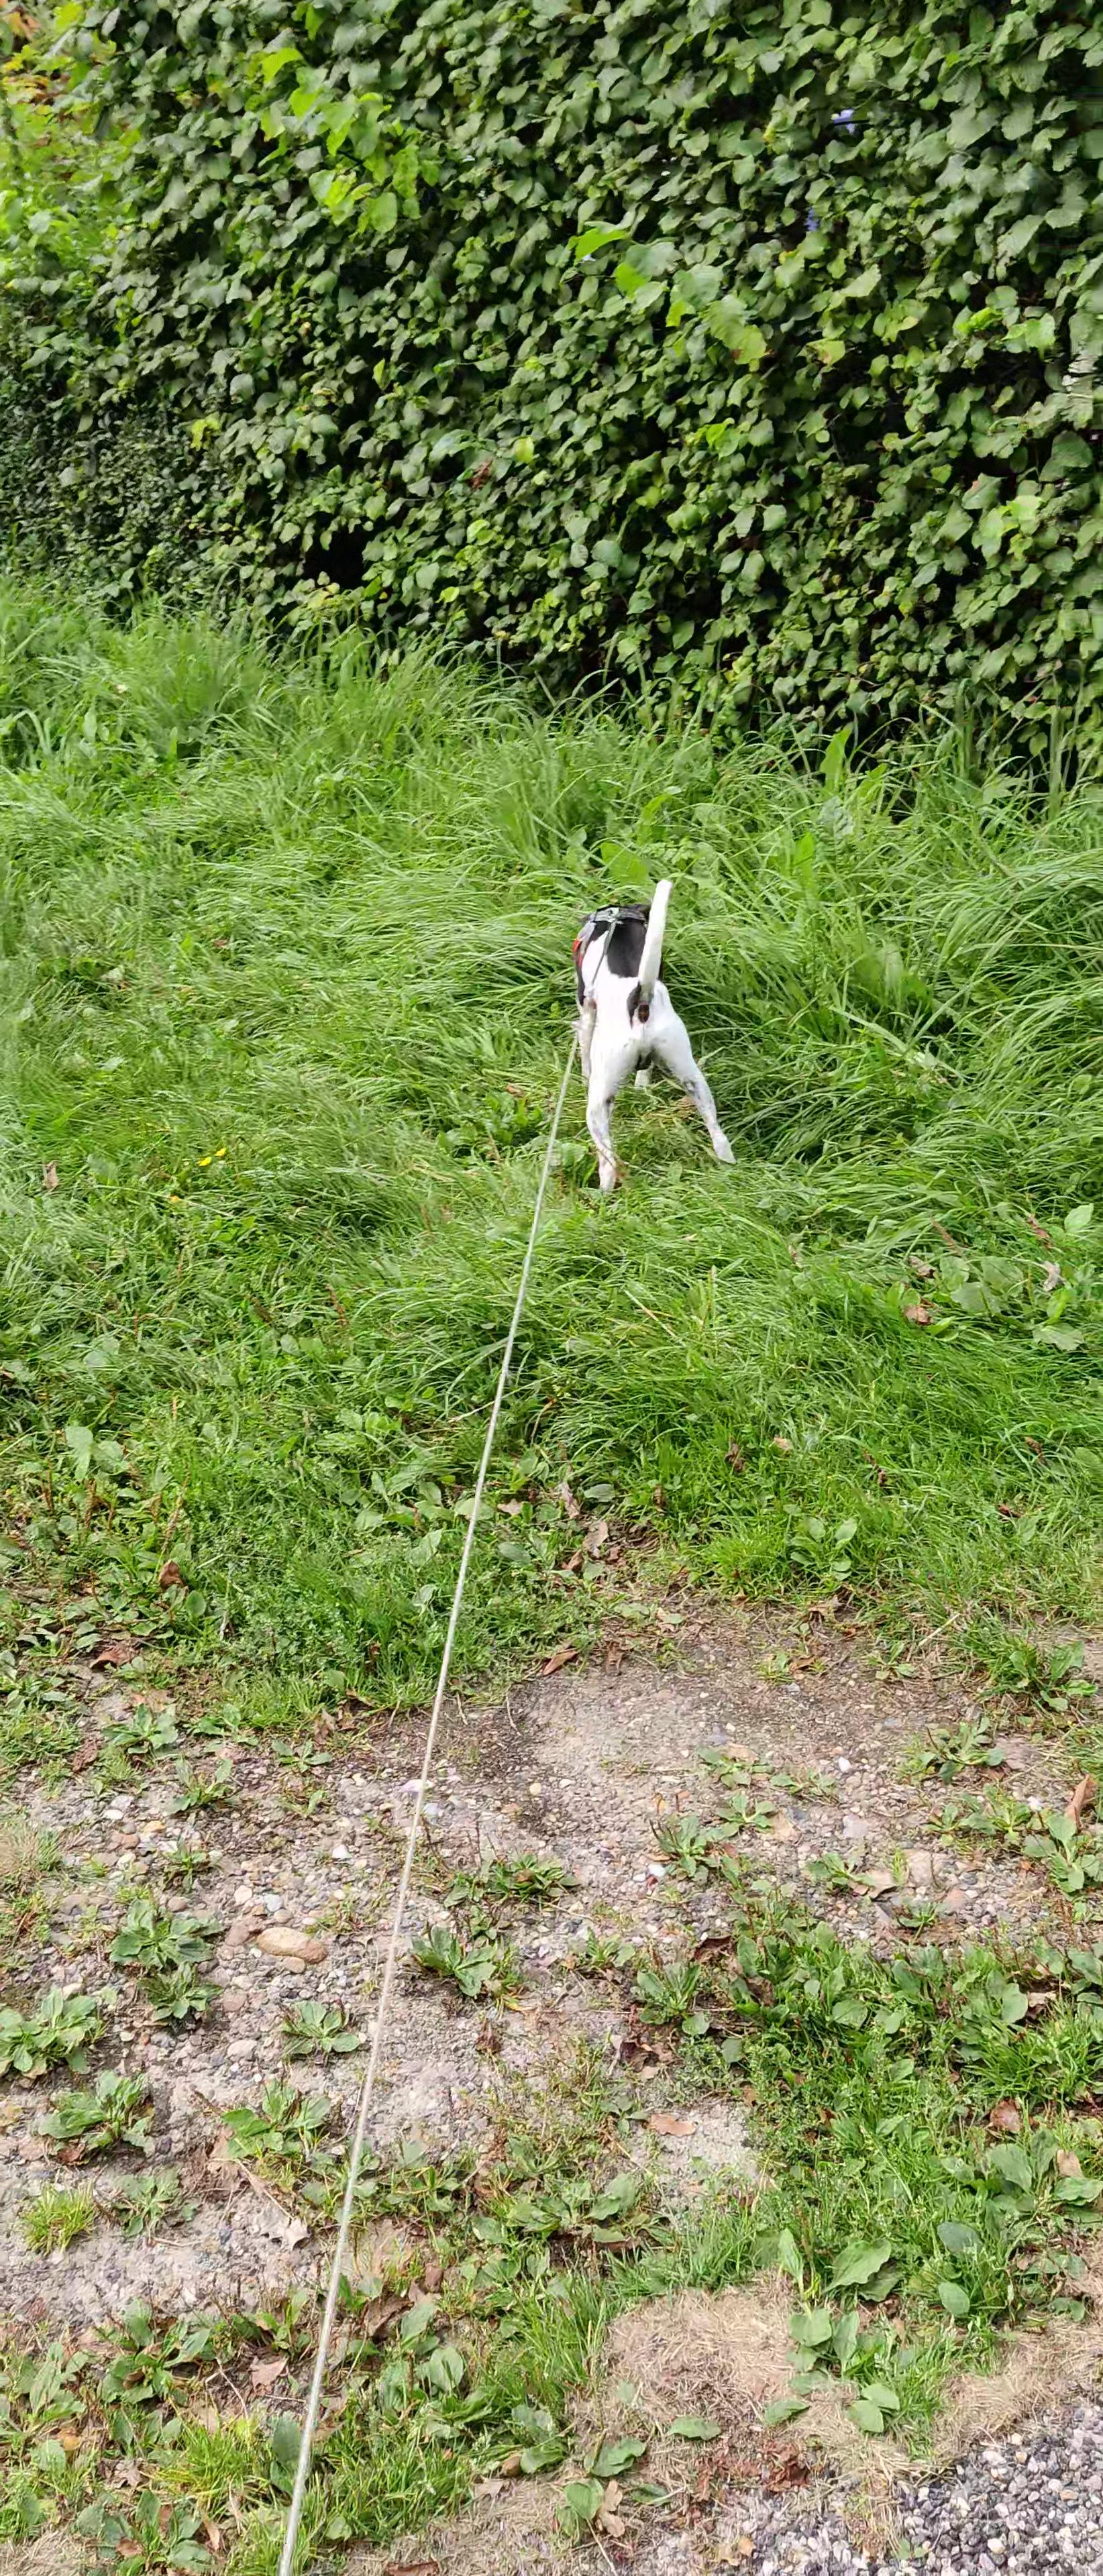Dog: (541, 864, 750, 1198)
